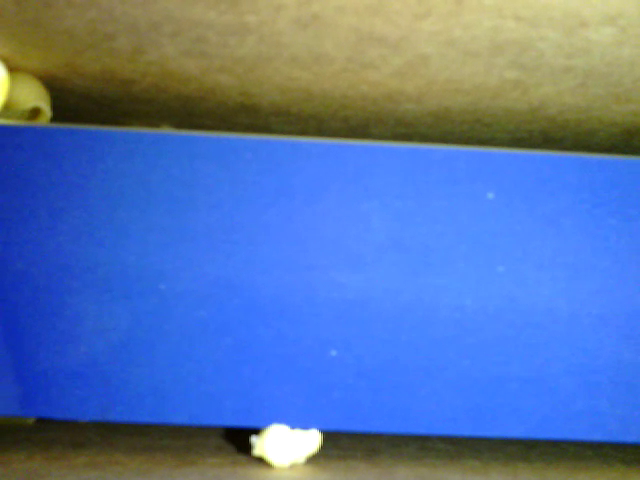shell: (1, 70, 57, 130)
